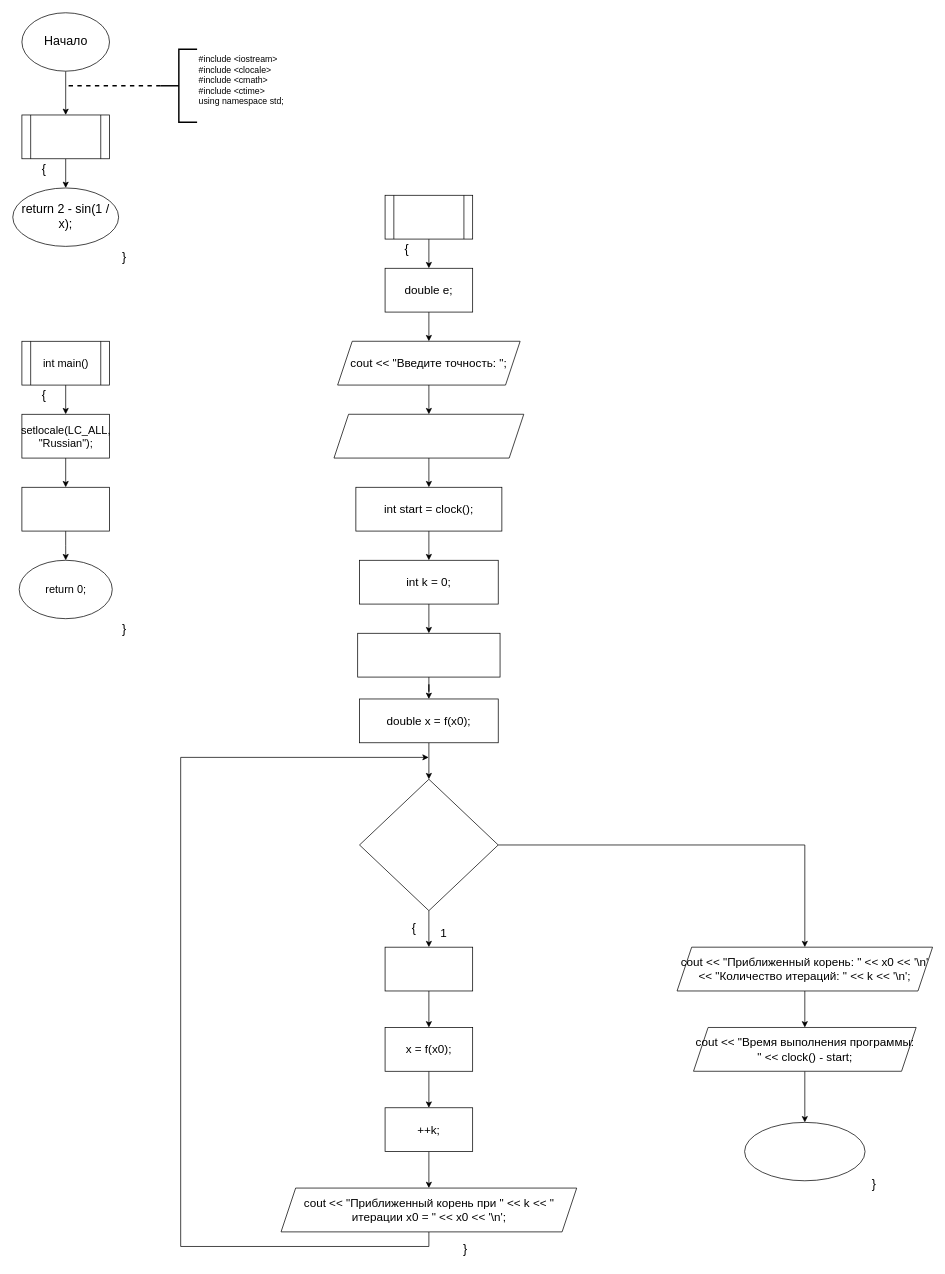
Some shapes in this 945 by 1274 pixel diagram are drawn without their labels. The shapes that lost their labels are listed below. From the top down, each one's centre as x and y in pixels, then its label:
the point at 65,136: double f(double x)
the point at 428,217: void n(double a, double b)
the point at 428,436: cin >> e;
the point at 65,509: n(1, 2);
the point at 428,655: double x0 = (b - a) / 2;
the point at 428,845: while (abs(x - x0) >= e)
the point at 428,968: x0 = x;
the point at 804,1151: Конец
